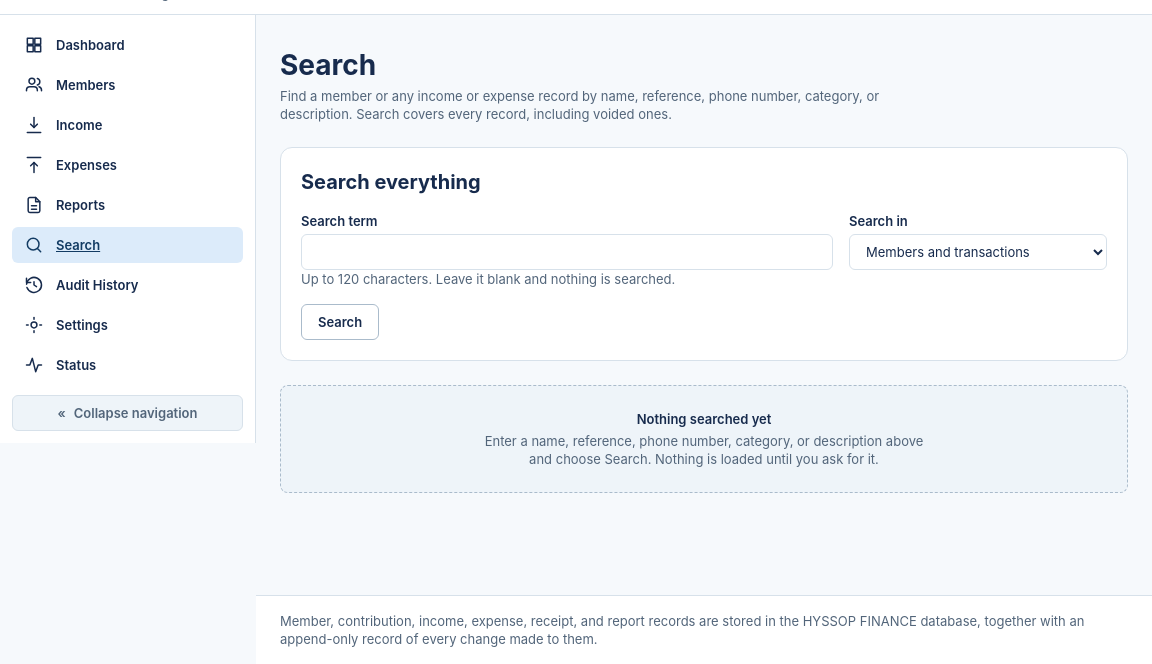
Test: the results › keeps a voided transaction in the results and labels it, rather than hiding it
Expected: the heading "Search" is shown, x1=280 y1=48 x2=376 y2=82
Type "HY" into the search field labelled "Search term". click: (567, 252)
box: x1=301 y1=234 x2=833 y2=270
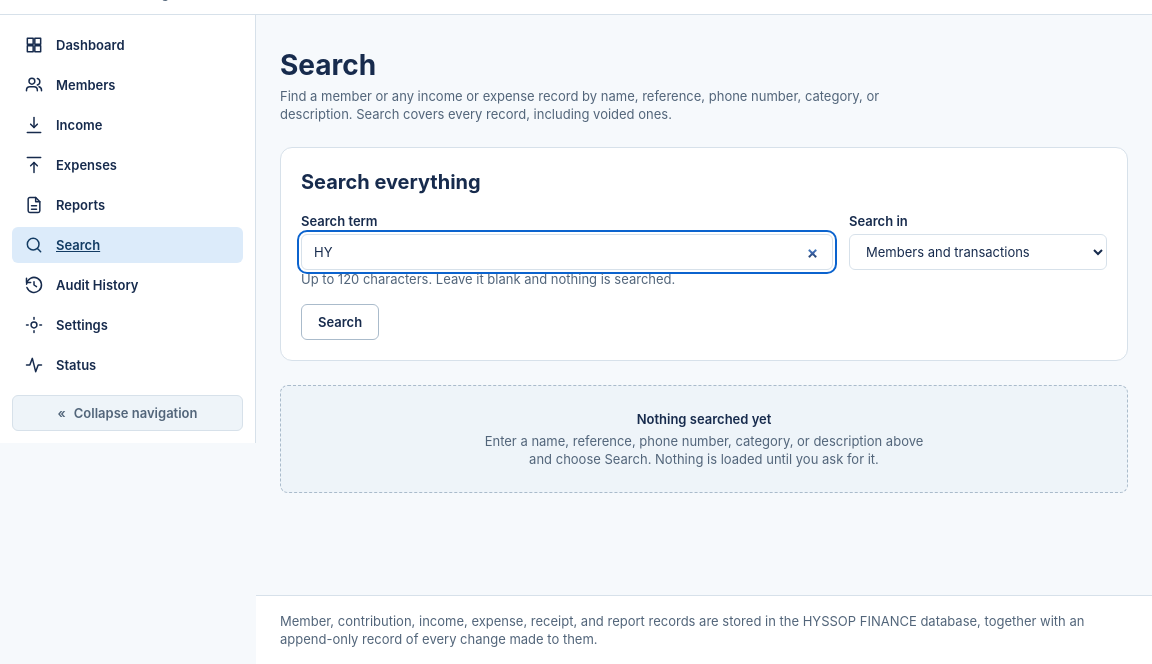
Click the button "Search". click: (340, 322)
box: x1=301 y1=304 x2=379 y2=340
(page scrolled)
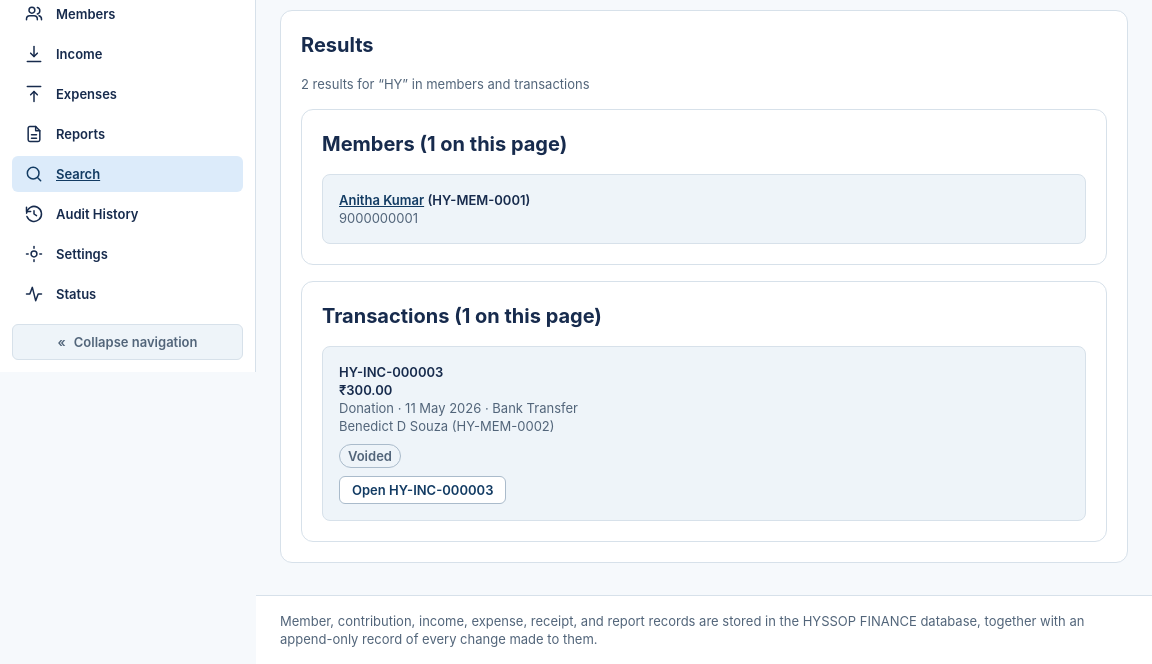
Now the text "HY-INC-000003" is shown, box x1=339 y1=364 x2=443 y2=380
Now the text "Voided" is shown, box x1=339 y1=444 x2=401 y2=468
